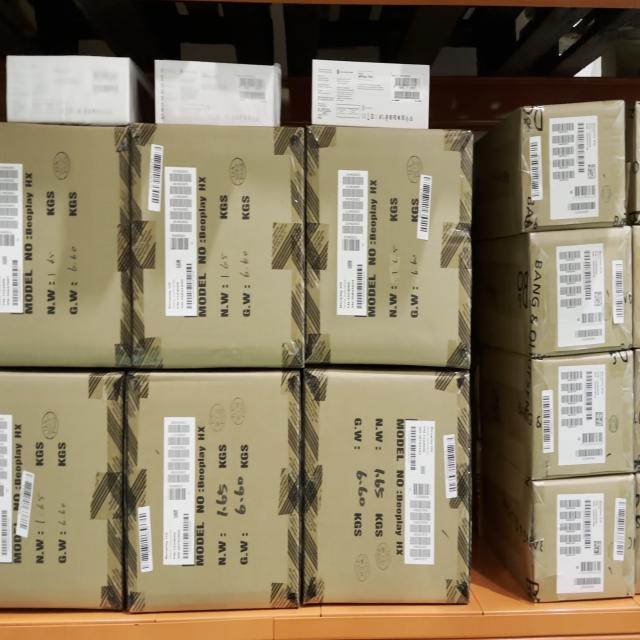box: (128, 373, 302, 604), (136, 128, 302, 359), (307, 130, 470, 362), (306, 378, 467, 598), (1, 129, 128, 356), (0, 377, 125, 602), (524, 107, 629, 225), (531, 358, 635, 474), (530, 234, 633, 351), (533, 484, 636, 599), (6, 57, 130, 122), (317, 66, 429, 125), (158, 67, 276, 123)
